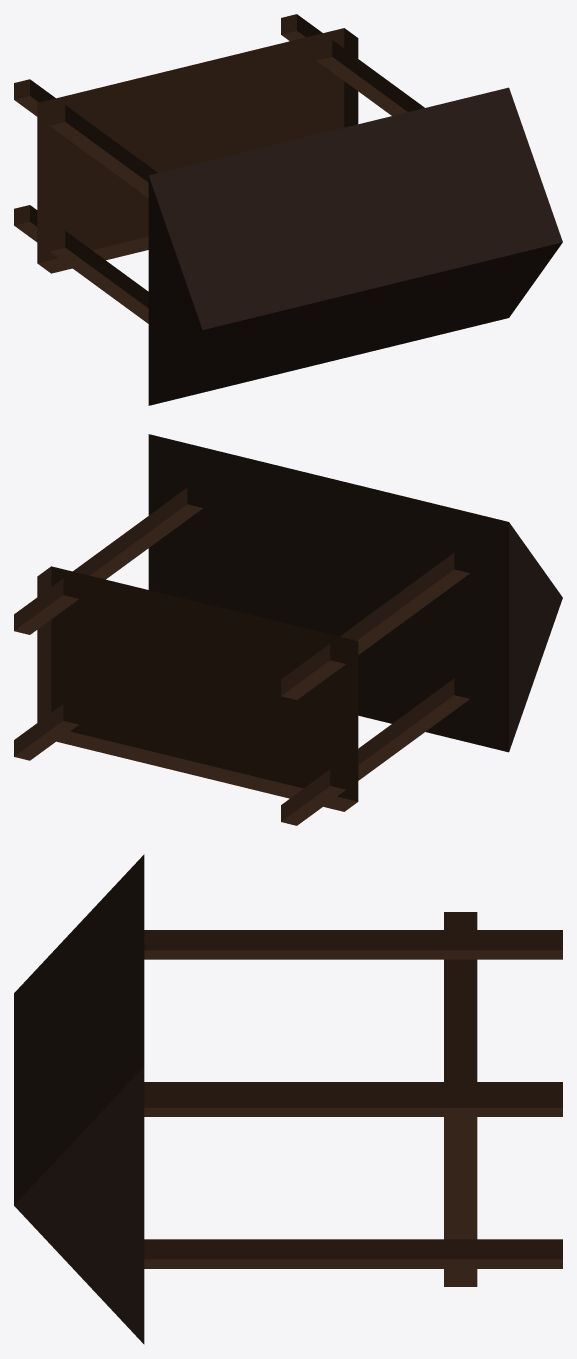
The model's file is SM_BreeStall.obj.
The picture shows the model from 3 angles, top to bottom: view 1: azimuth 30°, elevation 25°; view 2: azimuth 150°, elevation 25°; view 3: azimuth 270°, elevation 25°; orthographic projection. The views are drawn at different scales.
Parts seen in each view (by area): view 1: SM_BreeStall; view 2: SM_BreeStall; view 3: SM_BreeStall.
Part boxes in pixels (x1,y1,x2,y2): SM_BreeStall: (14,14,562,405); SM_BreeStall: (14,434,562,825); SM_BreeStall: (14,854,562,1344).
Size of the model in its own units: 270 by 165 by 295.
